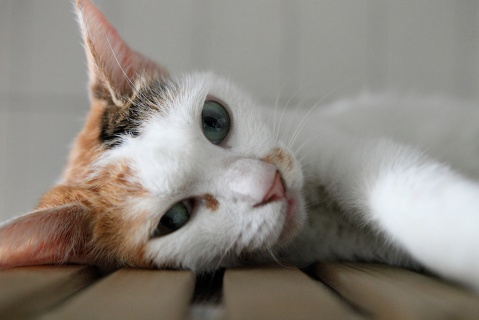Cat: (0, 0, 479, 290)
